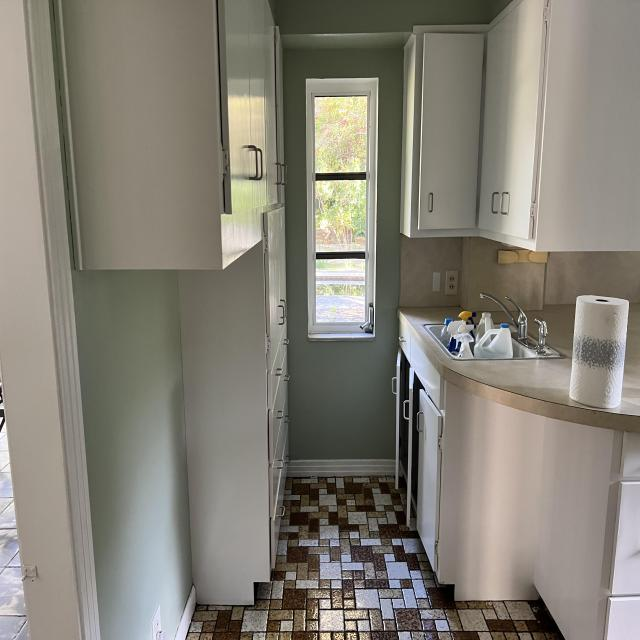Appliance_Sink: (423, 292, 566, 360)
Cabinet_Flat: (222, 0, 286, 570), (404, 0, 547, 249)
Cabinet_Shaker: (391, 315, 441, 567), (604, 433, 640, 640)
Countertop_Laminate: (399, 305, 581, 408), (619, 303, 640, 419)
